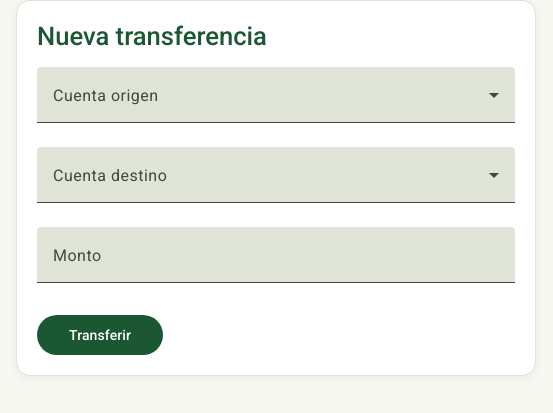
it: TransferenciaFormComponent › debe_mostrar_monto_invalido_y_no_llamar_al_backend_cuando_el_monto_es_0
Select "1000000001 - Titular 1" in the dropdown named "cuentaOrigen" at (276, 103), box [53,91,499,115]
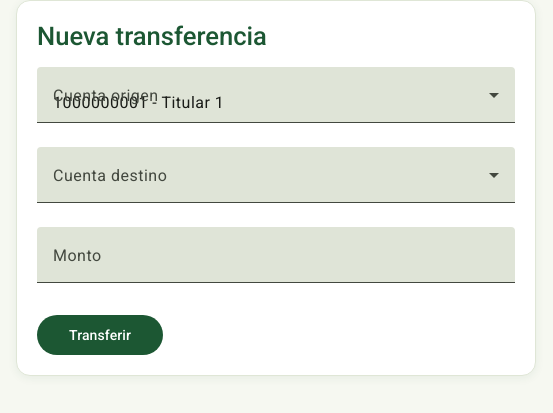
Select "1000000002 - Titular 2" in the dropdown named "cuentaDestino" at (276, 183), box [53,171,499,195]
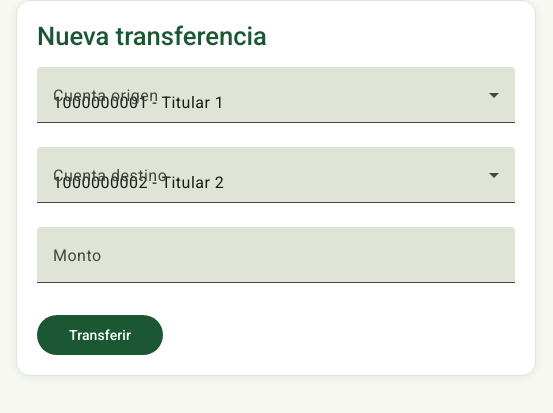
Type "0" into the field named "monto".
click(276, 263); type("0")  # box [53,251,499,275]
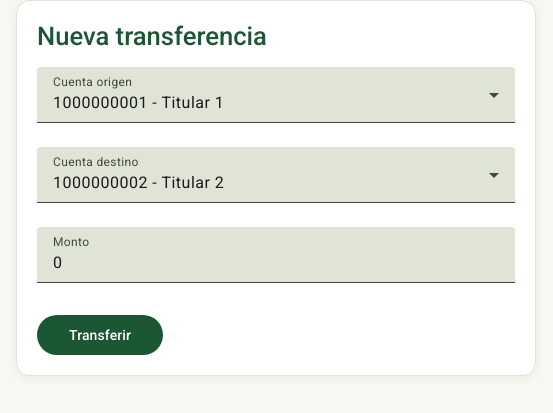
Click the submit button.
click(100, 335)  # box [37,315,163,355]
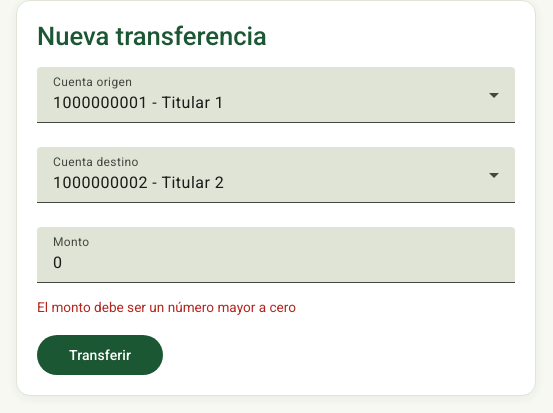
Expected: the text "El monto debe ser un número mayor a cero" is shown, [37,299,296,315]
